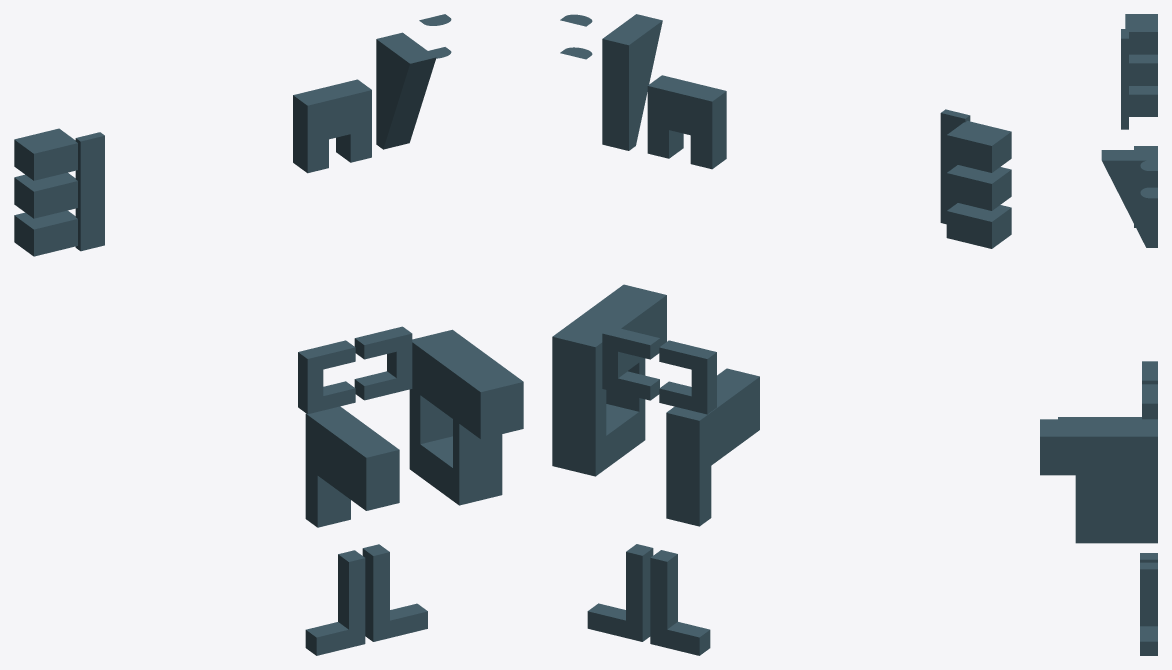
File: buildings_glass.obj
3 views of the same model, side by side, from view 1: azimuth 30°, elevation 25°; view 2: azimuth 150°, elevation 25°; view 3: azimuth 270°, elevation 25° (orthographic). The views are drawn at different scales.
Size of the model in its own units: 2.24 by 2.93 by 0.63.
